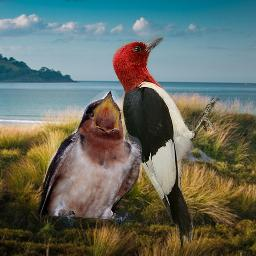Swallow: (38, 90, 142, 228)
Woodpecker: (110, 33, 220, 249)
